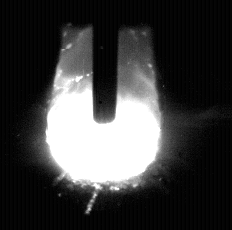arame: (93, 0, 118, 124)
poca: (46, 0, 162, 230)
